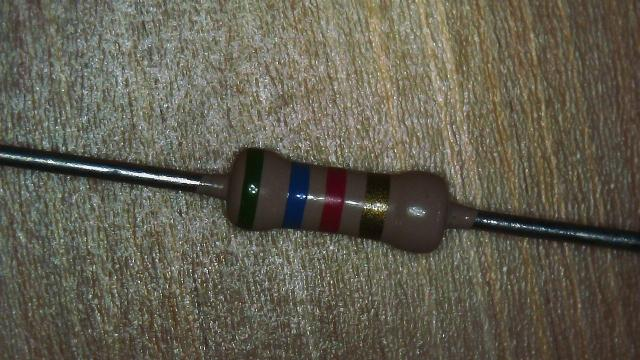blue: (284, 162, 308, 228)
gold: (362, 173, 390, 238)
green: (238, 148, 264, 229)
red: (322, 166, 344, 234)
resistor: (205, 124, 481, 274)
